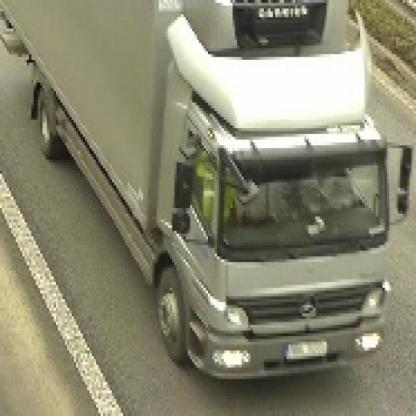truck: (3, 1, 413, 380)
